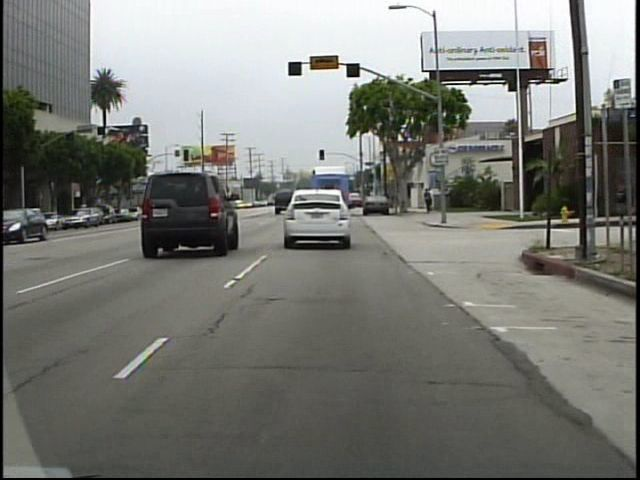person: (423, 187, 434, 214), (430, 187, 438, 213)
